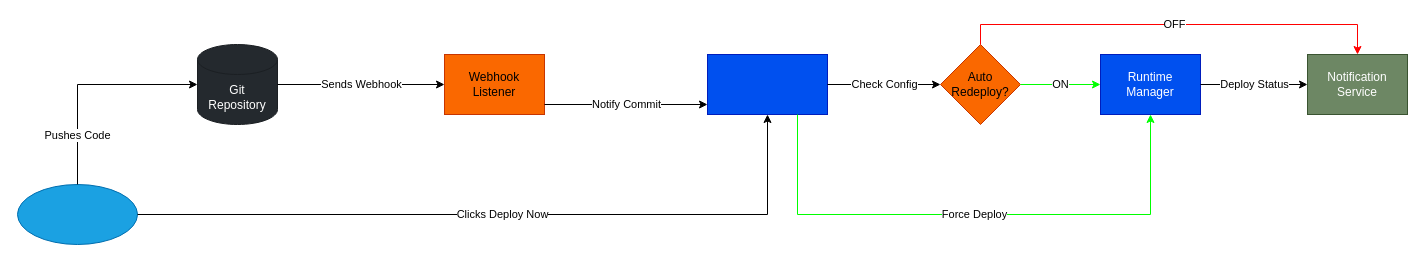
Some shapes in this 1425 by 262 pixel diagram are drawn without their labels. Here are the shapes that lost their labels. From the top down, the centre of each, then its label:
(767,84): Orchestrator (Deployment Svc)
(77,214): Student
